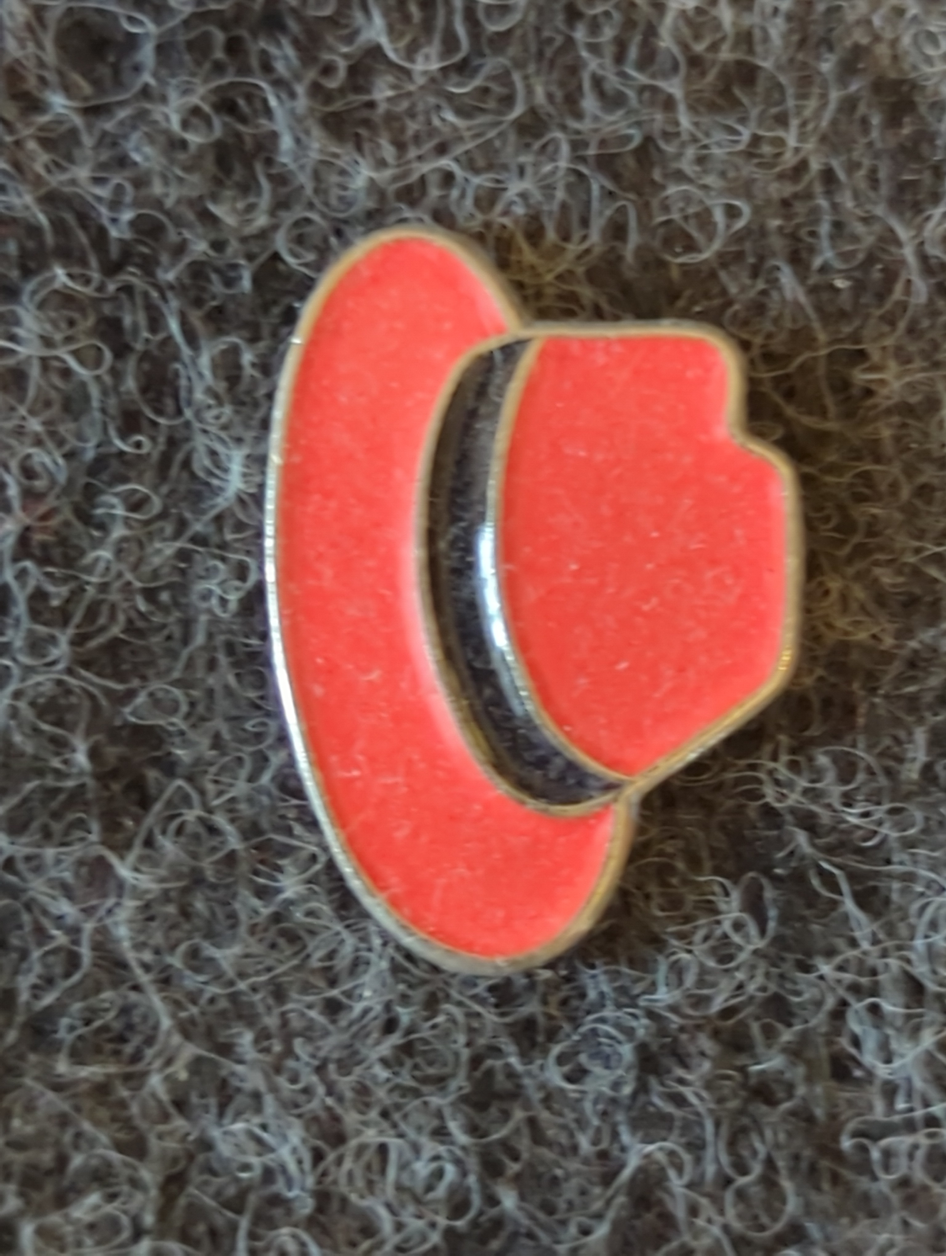Red-Hat: (164, 74, 946, 1088)
